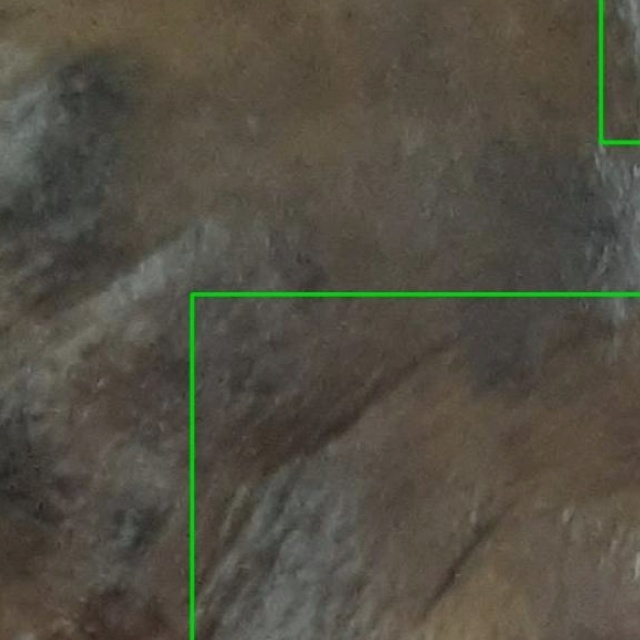Contact Dermatitis: (192, 294, 639, 639)
